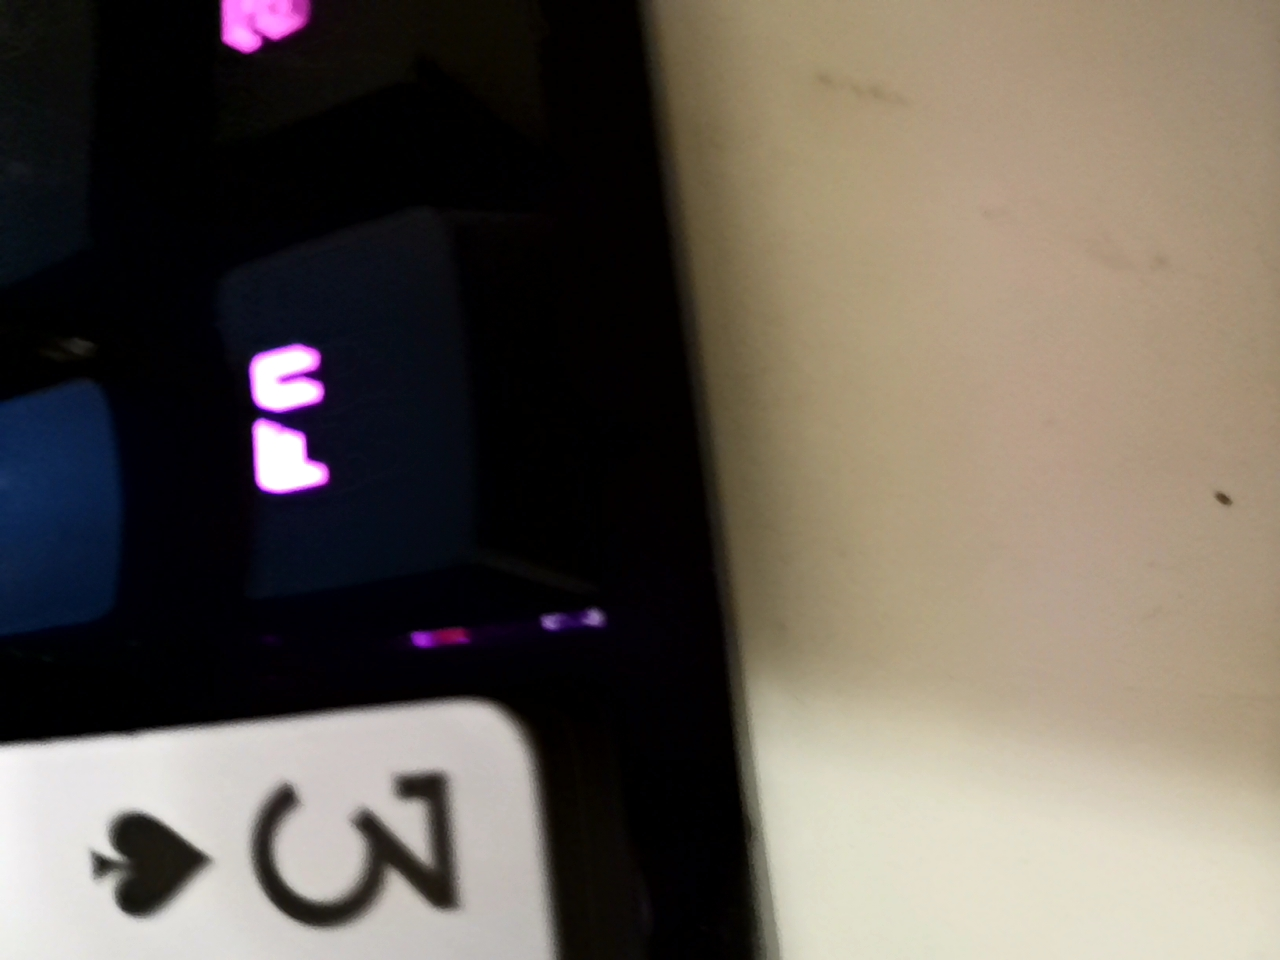ht 3: (11, 653, 736, 955)
